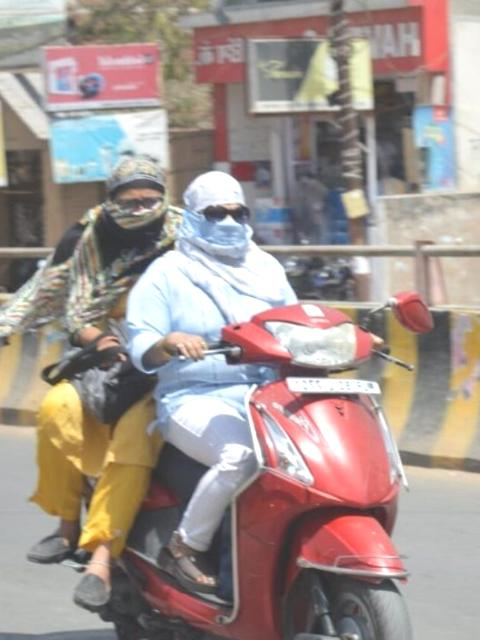licensePlate: (279, 377, 377, 398)
motorcycle: (6, 155, 407, 640)
withoutHelmet: (163, 175, 262, 266), (97, 162, 172, 232)
